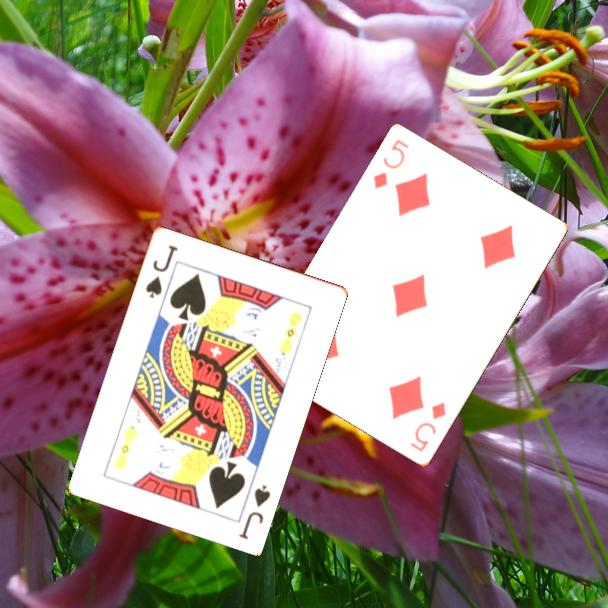d05: (370, 136, 412, 193), (407, 399, 449, 455)
s11: (142, 241, 181, 301), (235, 481, 273, 542)
